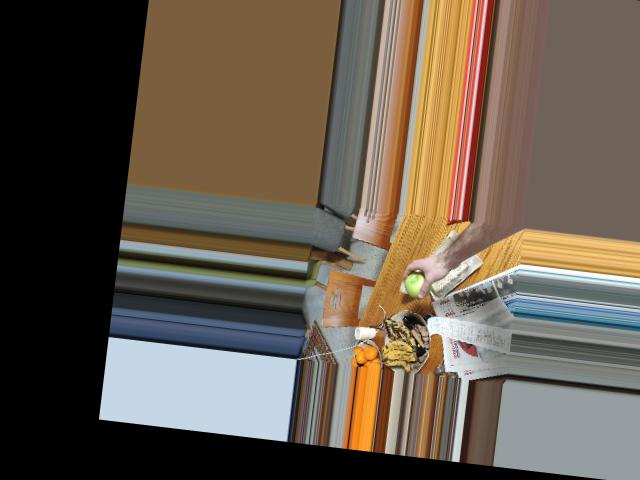apple: (404, 265, 441, 298)
